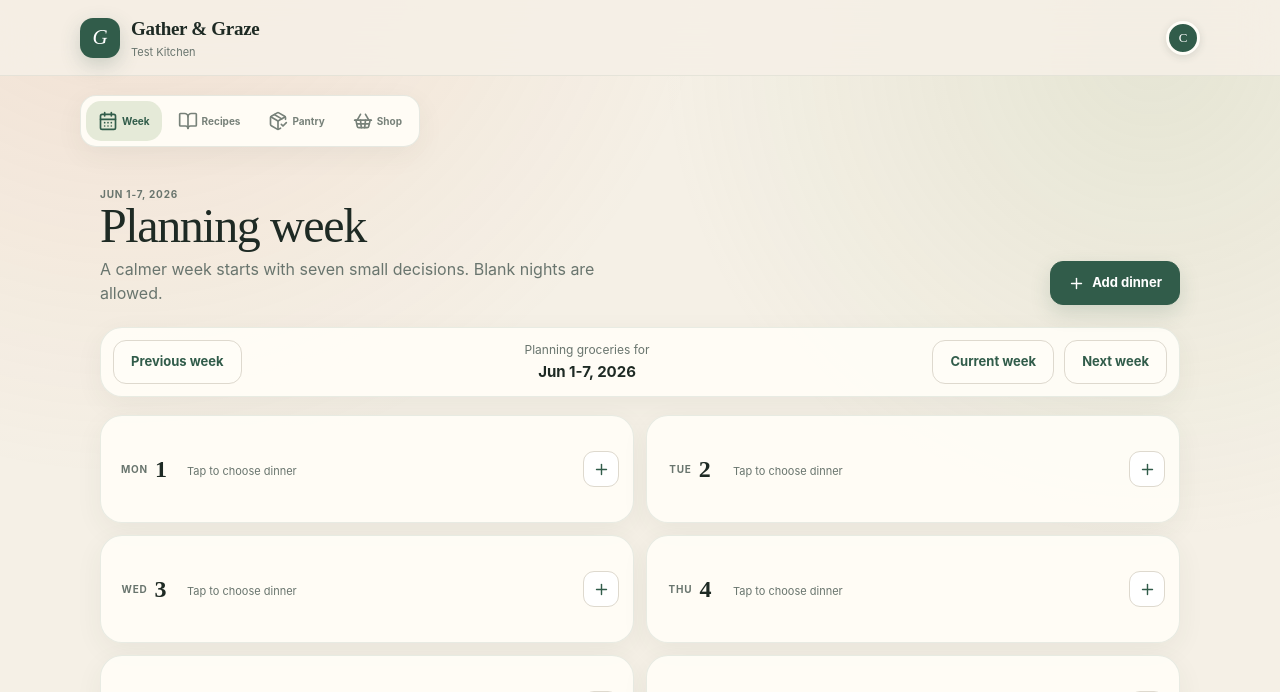
Test: DinnerPlannerApp recipe editing and labels › shows recipe history restore as a compact icon action
Click the button "Recipes" at (209, 121), box [166,101,252,141]
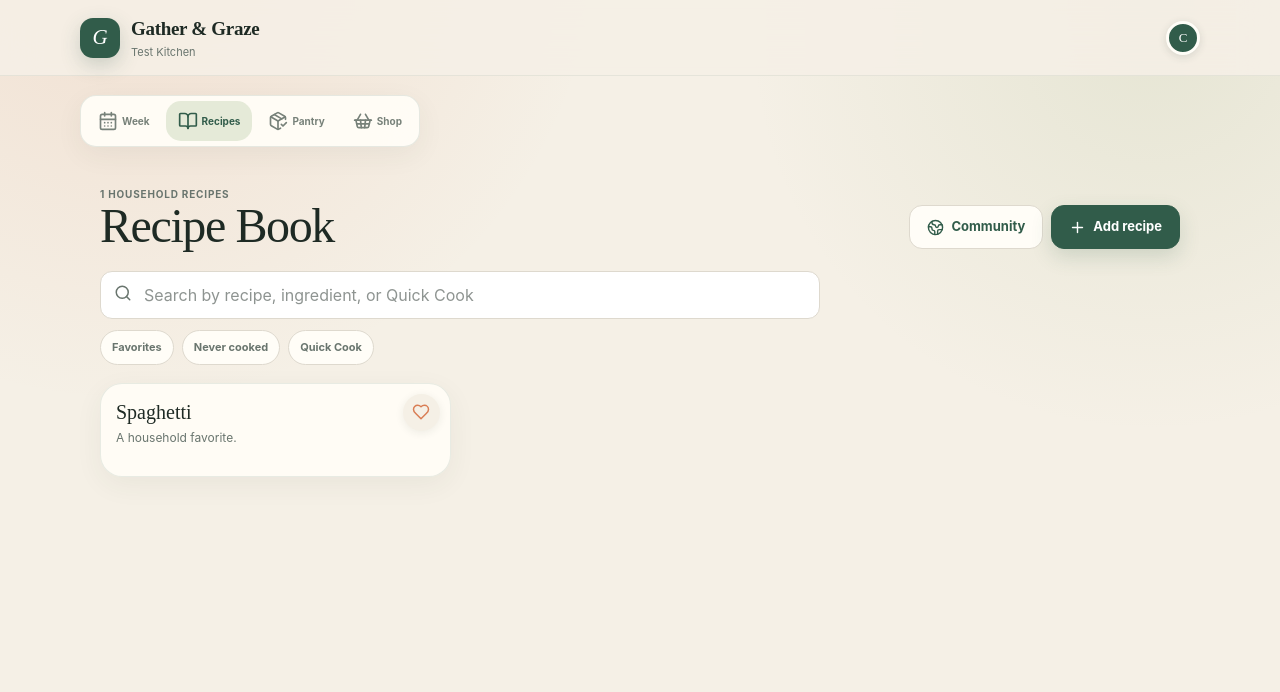
Click the heading "Spaghetti" at (154, 412), box [116,400,192,422]
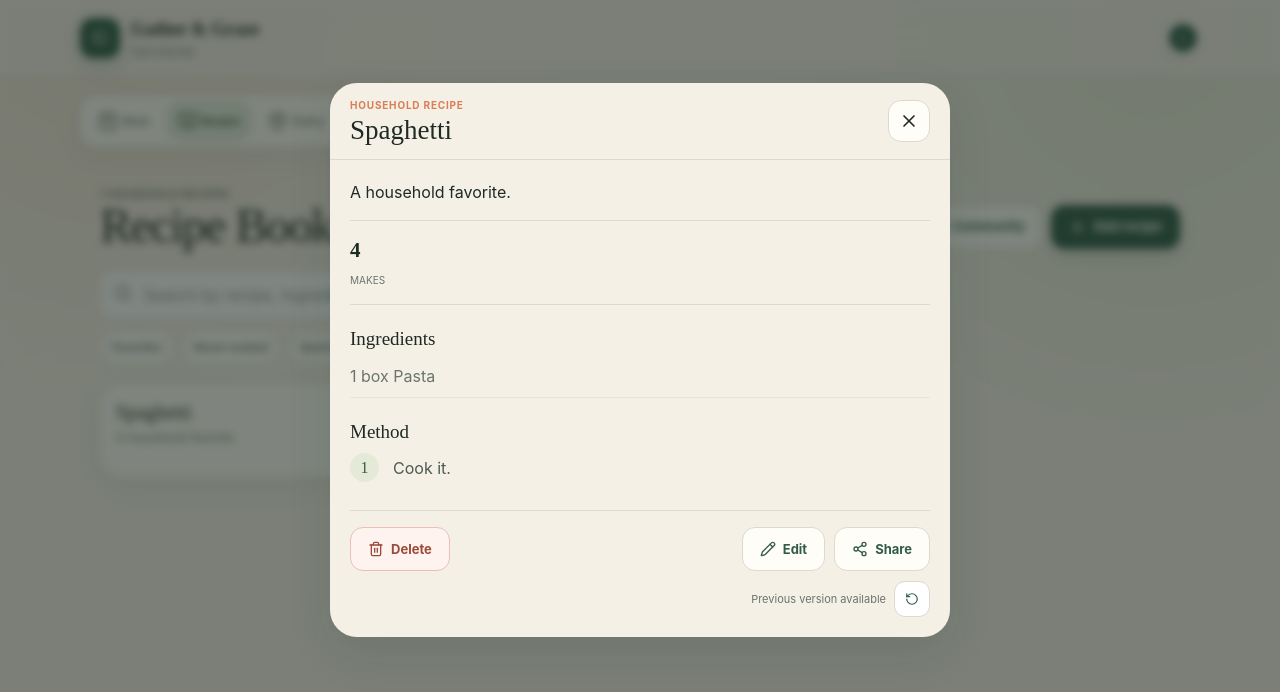
Expected: the button named "Restore previous recipe version" is shown, [894,581,930,617]
